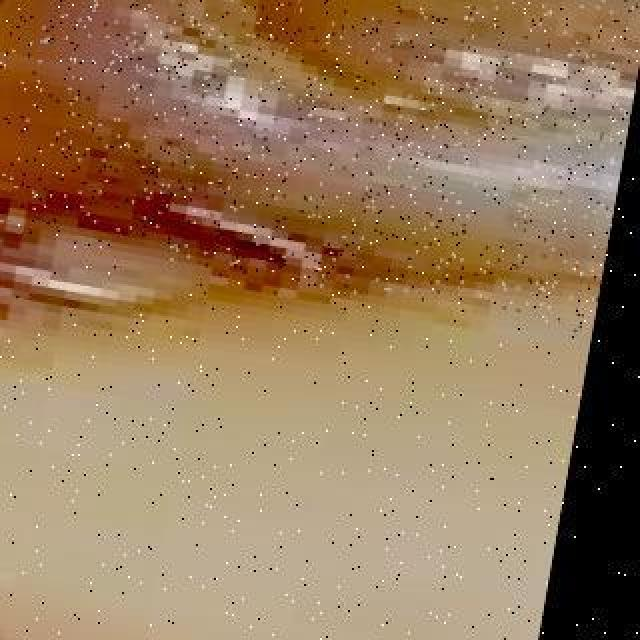cavities: (156, 0, 640, 208)
